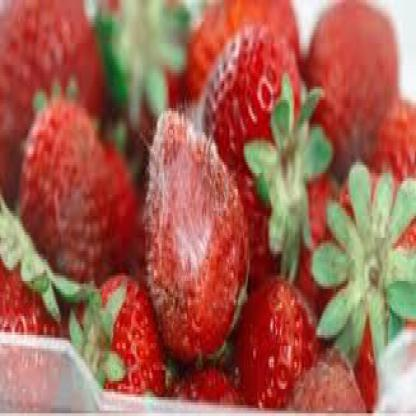strawberry_rotten: (118, 81, 258, 370)
